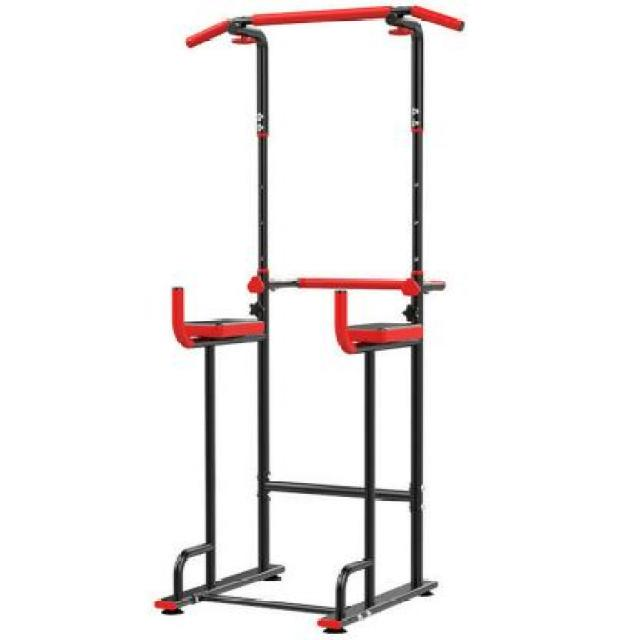chinning dipping: (157, 6, 466, 634)
